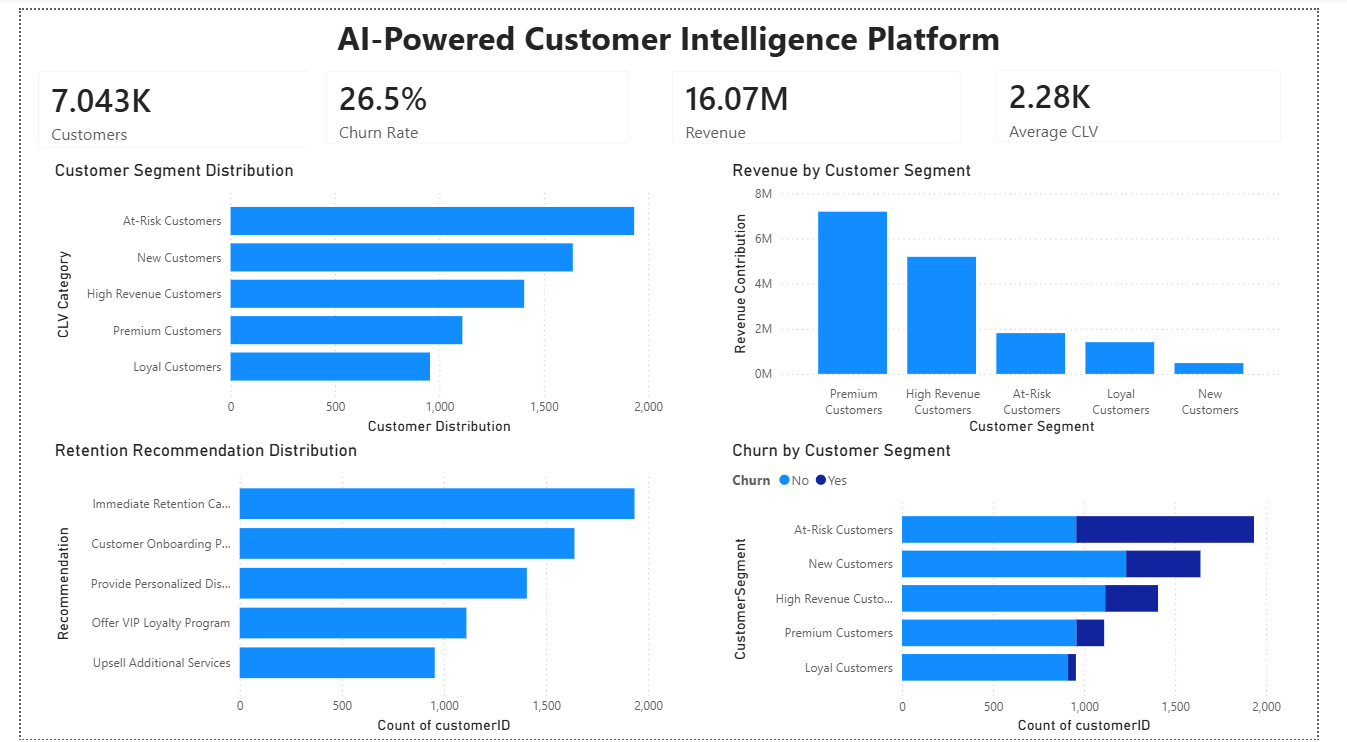

This screenshot's page, from the dashboard's own definition file:
{"tool":"powerbi","page":{"name":"Executive Overview","canvas":[1280,720],"ordinal":0},"visuals":[{"type":"cardVisual","fields":{"Data":["CountNonNull(powerbi_dashboard_data.customerID)"]},"box":[0,43.8,317.5,110],"z":0},{"type":"cardVisual","fields":{"Data":["Avg(powerbi_dashboard_data.PredictedCLV)"]},"box":[946.2,42.5,316.2,106.2],"z":1000},{"type":"cardVisual","fields":{"Data":["Sum(powerbi_dashboard_data.TotalCharges)"]},"box":[626.2,43.8,320,106.2],"z":2000},{"type":"cardVisual","fields":{"Data":["powerbi_dashboard_data.ChurnRate"]},"box":[283.8,43.8,335,106.2],"z":2001},{"type":"clusteredBarChart","title":"Customer Segment Distribution","fields":{"Y":["CountNonNull(powerbi_dashboard_data.customerID)"],"Category":["powerbi_dashboard_data.CustomerSegment"]},"box":[28.8,148.8,611.2,276.2],"z":2002},{"type":"clusteredColumnChart","title":"Revenue by Customer Segment","fields":{"Category":["powerbi_dashboard_data.CustomerSegment"],"Y":["Sum(powerbi_dashboard_data.TotalCharges)"]},"box":[697.5,148.8,552.5,276.2],"z":2004},{"type":"clusteredBarChart","title":"Retention Recommendation Distribution","fields":{"Category":["powerbi_dashboard_data.Recommendation"],"Y":["CountNonNull(powerbi_dashboard_data.customerID)"]},"box":[28.8,425,611.2,295],"z":2005},{"type":"barChart","title":"Churn by Customer Segment","fields":{"Y":["CountNonNull(powerbi_dashboard_data.customerID)"],"Category":["powerbi_dashboard_data.CustomerSegment"],"Series":["powerbi_dashboard_data.Churn"]},"box":[697.5,425,552.5,295],"z":2007},{"type":"textbox","box":[0,0,1280,57.5],"z":2008}]}

Visuals, with their boxes in screenshot pixels (x1, y1, x2, y2), scaled from the page's 1280x720 canvas onto the 1347x742 screenshot:
cardVisual - CountNonNull(powerbi_dashboard_data.customerID): bbox=(0, 45, 334, 158)
cardVisual - Avg(powerbi_dashboard_data.PredictedCLV): bbox=(996, 44, 1328, 153)
cardVisual - Sum(powerbi_dashboard_data.TotalCharges): bbox=(659, 45, 996, 155)
cardVisual - powerbi_dashboard_data.ChurnRate: bbox=(299, 45, 651, 155)
"Customer Segment Distribution" clusteredBarChart: bbox=(30, 153, 674, 438)
"Revenue by Customer Segment" clusteredColumnChart: bbox=(734, 153, 1315, 438)
"Retention Recommendation Distribution" clusteredBarChart: bbox=(30, 438, 674, 741)
"Churn by Customer Segment" barChart: bbox=(734, 438, 1315, 741)
textbox: bbox=(0, 0, 1346, 59)
